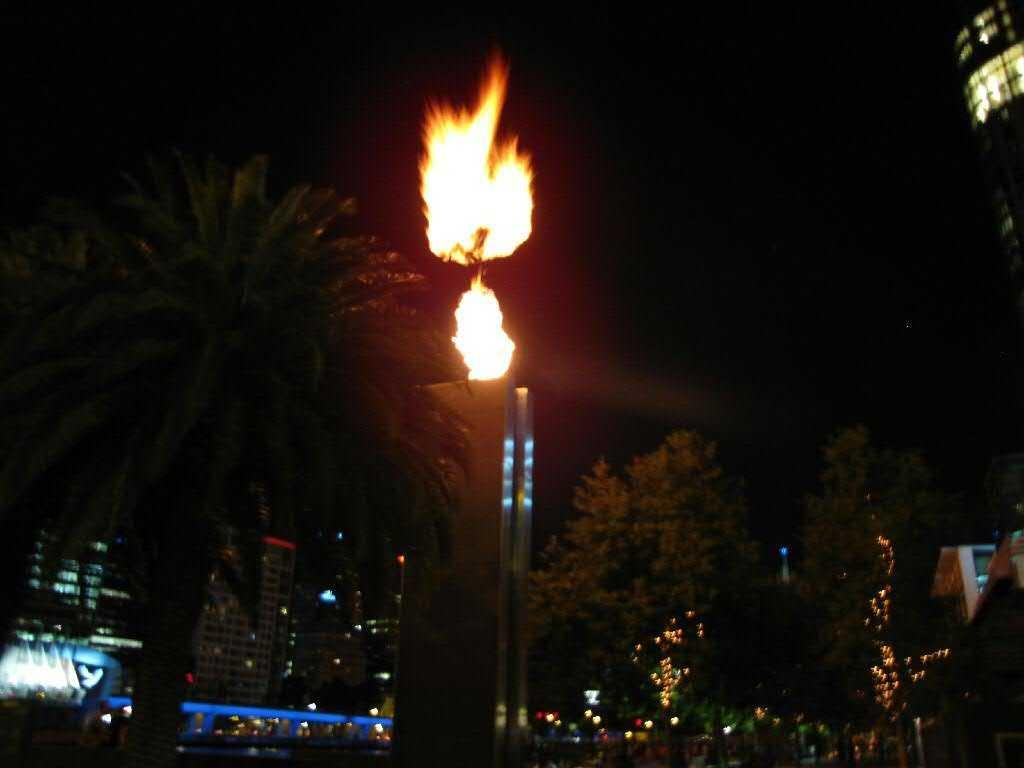fire: (424, 142, 526, 250), (468, 300, 502, 378)
